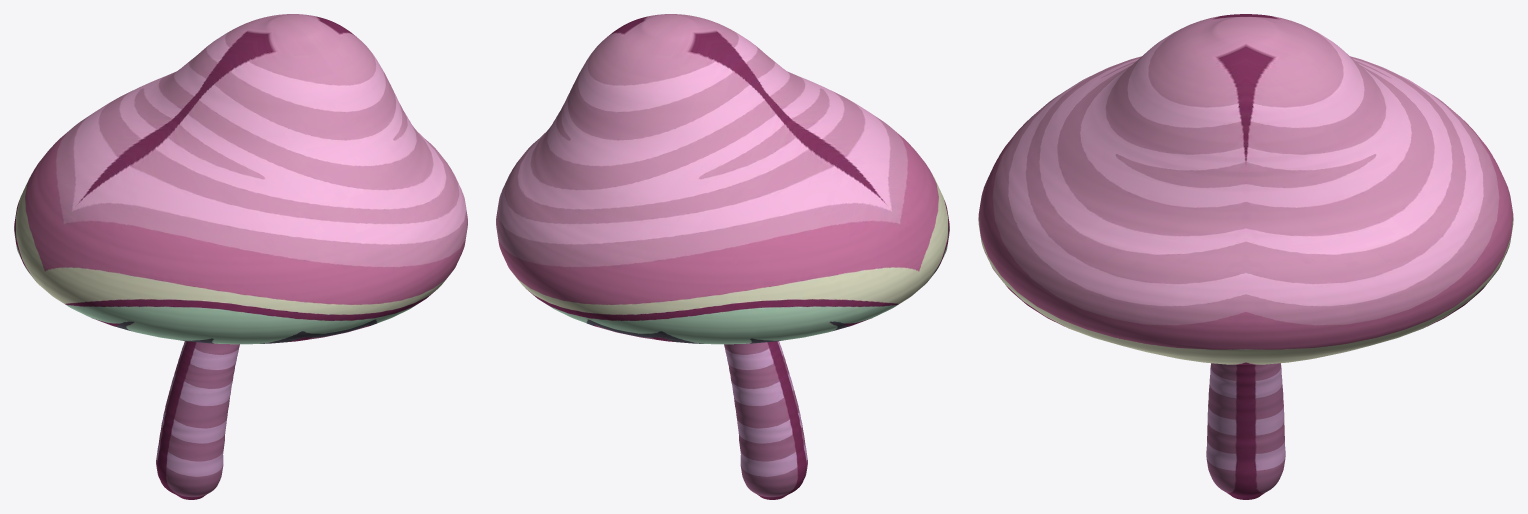
File: pink_mushroom.glb
The picture shows the model from 3 angles, left to right: view 1: azimuth 30°, elevation 25°; view 2: azimuth 150°, elevation 25°; view 3: azimuth 270°, elevation 25°; orthographic projection. The views are drawn at different scales.
Parts seen in each view (by area): view 1: pink_mushroom; view 2: pink_mushroom; view 3: pink_mushroom.
Boxes of the visible parts, box(x1,y1,x2,y2) form: pink_mushroom: box(14, 14, 467, 499); pink_mushroom: box(496, 14, 949, 499); pink_mushroom: box(978, 14, 1513, 499).
Bounding box in the file's own units: 1 × 1.08 × 0.9993.
1 material, 1 textured.
